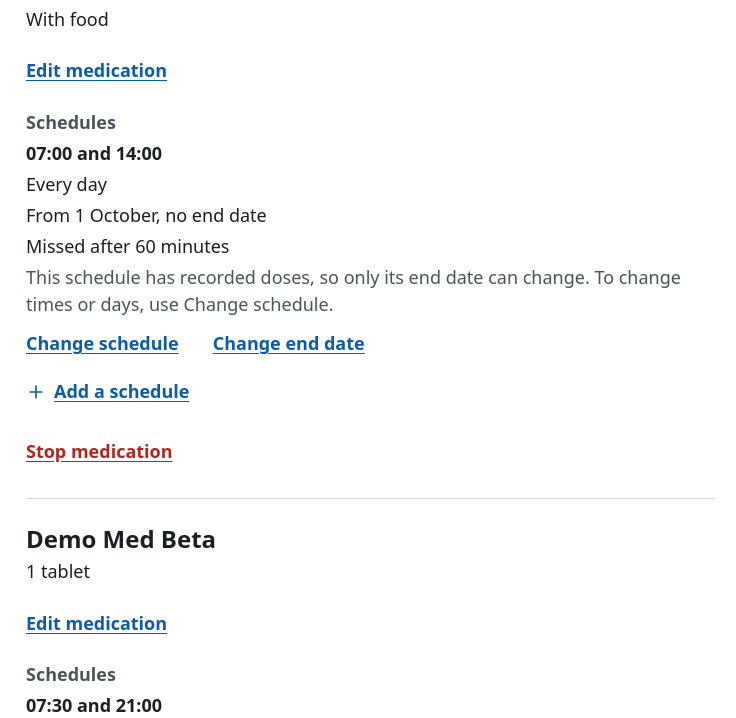
Test: Schedules with recorded doses › ends the schedule today and starts the new one tomorrow by default (AC-34, requirements §4.4)
The image size is (736, 718).
(page scrolled)
Click the button "Change schedule": (102, 344) [16,322,189,366]
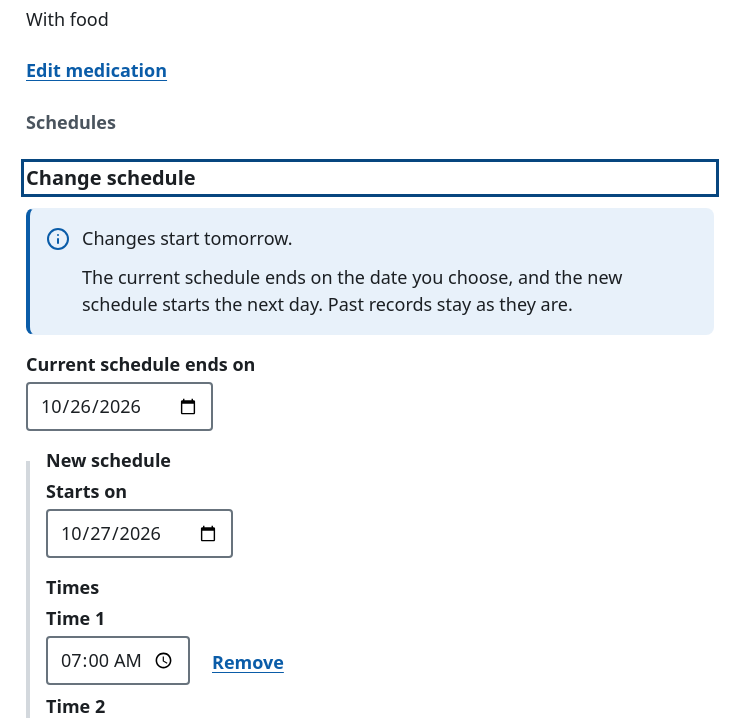
Expected: the date field labelled "Current schedule ends on" holds "2026-10-26", [26,382,213,431]
Expected: the date field labelled "Starts on" holds "2026-10-27", [46,509,233,558]
Expected: the text "Changes start tomorrow." is shown, [82,225,292,252]
Replace the text in the time field labelled "Time 1" with "08:00": (118, 661) [46,636,190,685]
(page scrolled)
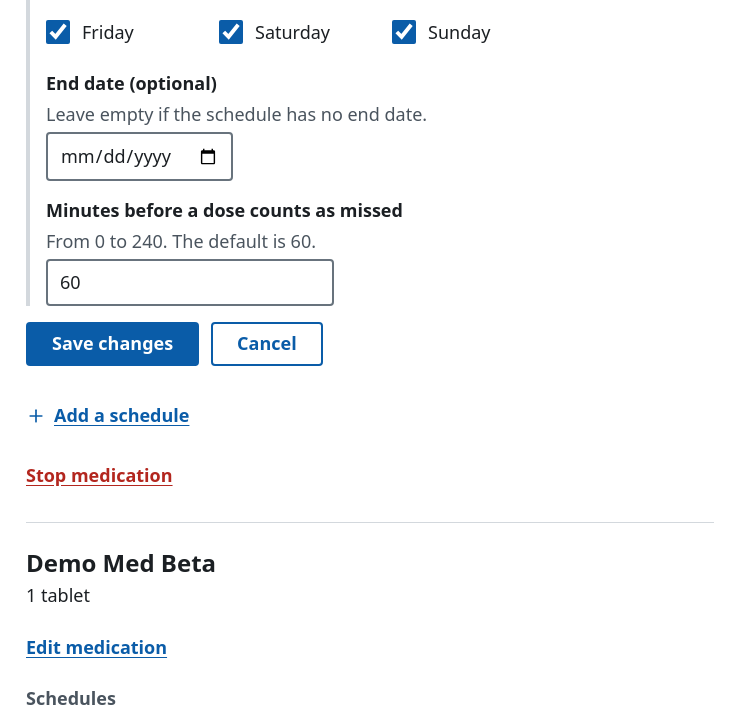
Click the button "Save changes": (113, 344) [26,322,199,366]
(page scrolled)
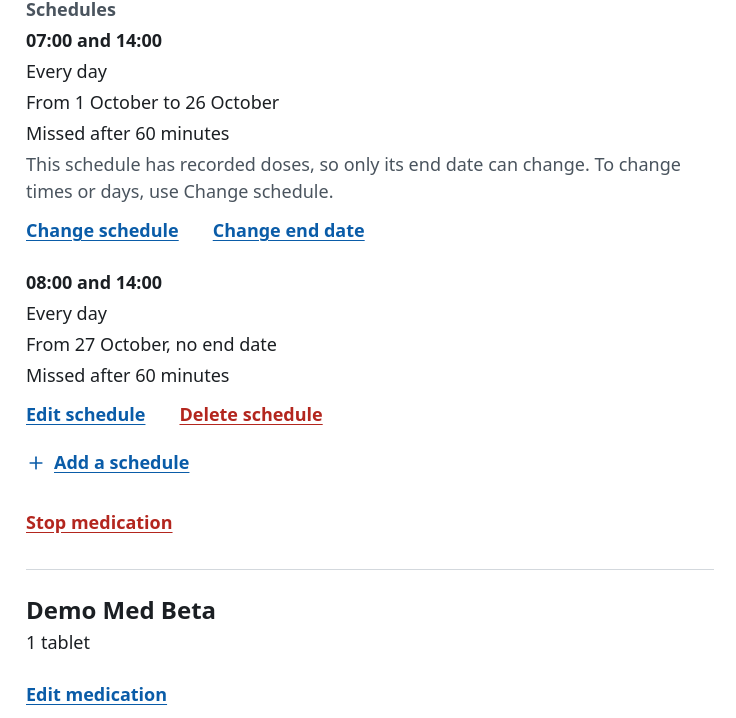
Expected: the text "08:00 and 14:00" is shown, [26,270,162,294]
